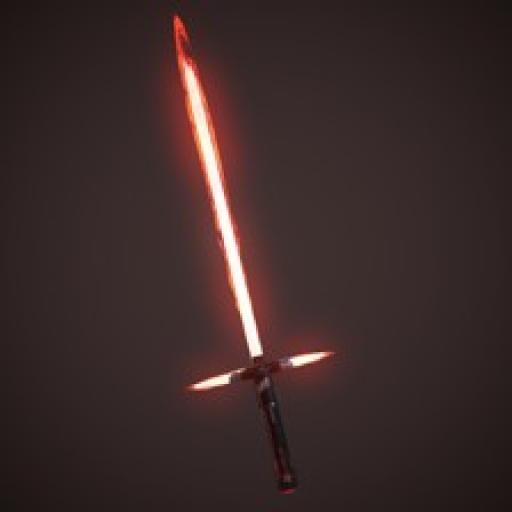sith saber: (140, 7, 340, 496)
